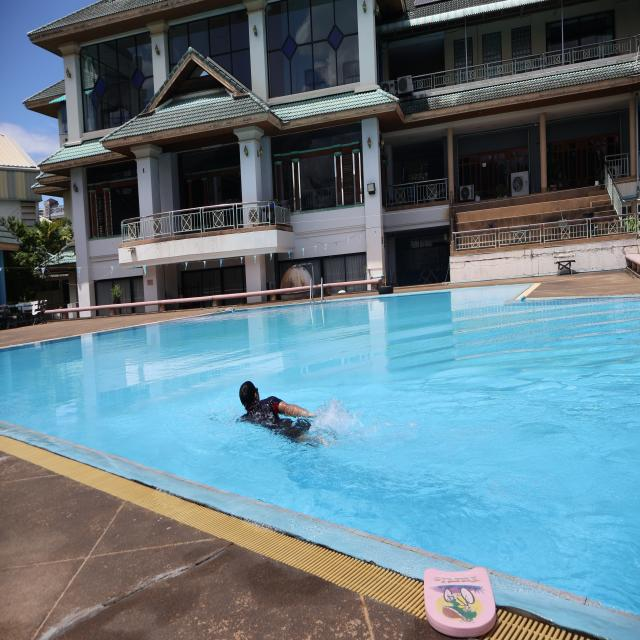Swimming: (236, 377, 336, 447)
